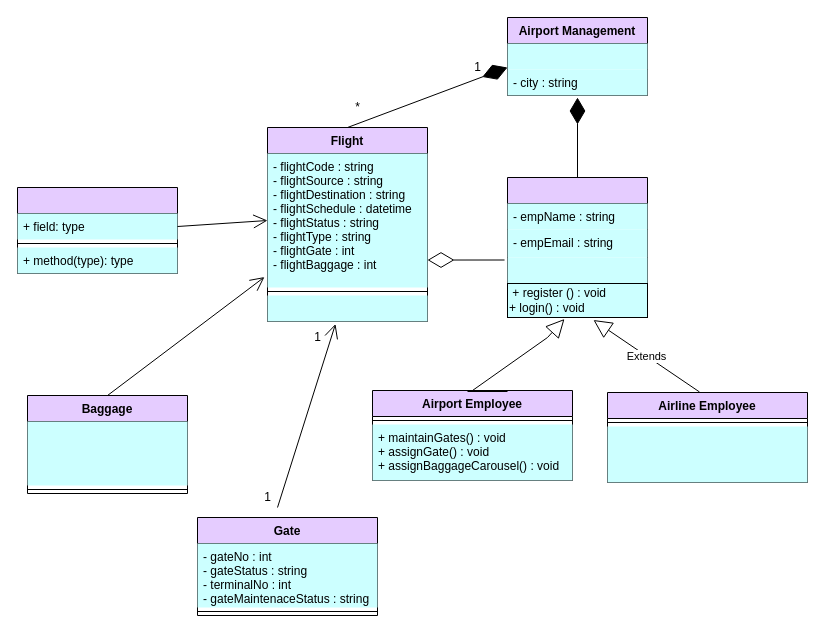
This 825x633 diagram has some shape labels left out. Here are the shapes that lost their labels. From the top down, the box of each, then its label:
(507, 43, 647, 69): - airport : string
(16, 186, 178, 274): Passengers
(506, 176, 648, 284): Employee
(507, 257, 647, 283): - empType : int
(267, 295, 427, 321): + flightDetails() : void
(27, 421, 187, 485): - baggageId : int - baggageStatus : string - baggaeCarouselNo : int
(607, 426, 807, 482): + addFlights() : void + updateFlights() : void
